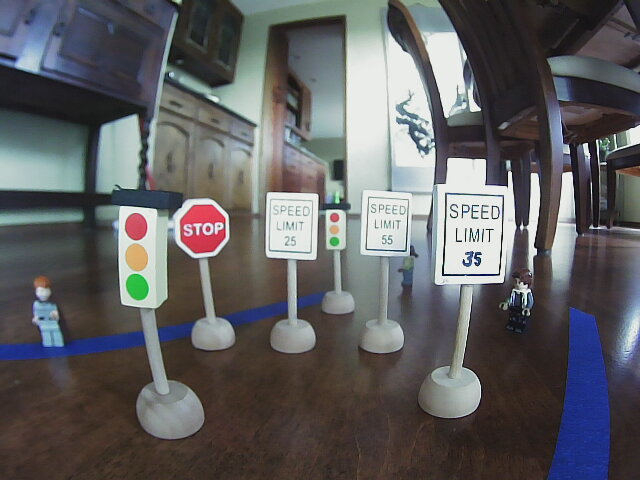SpeedLimit25: (266, 193, 314, 258)
SpeedLimit35: (436, 186, 503, 282)
SpeedLimit55: (362, 189, 408, 253)
StopSign: (176, 199, 231, 261)
TrafficLight: (111, 190, 165, 305), (323, 203, 345, 250)
person: (26, 271, 69, 349), (504, 269, 536, 333), (401, 250, 420, 295)
